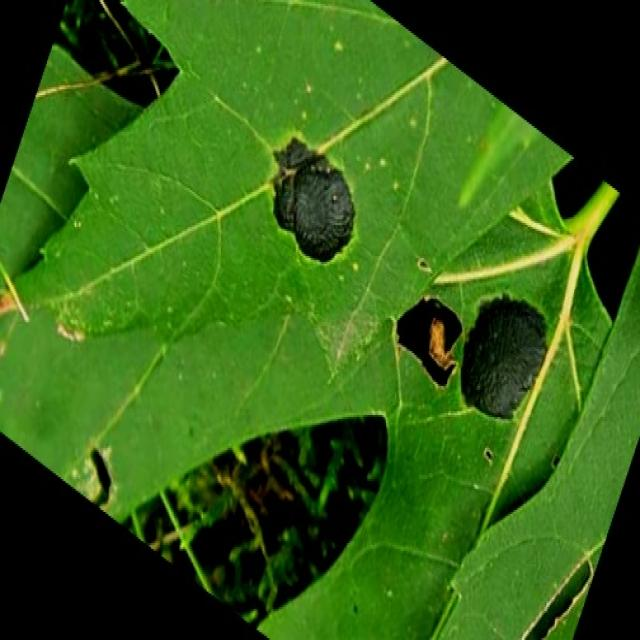Tar_Spot: (171, 65, 634, 487)
